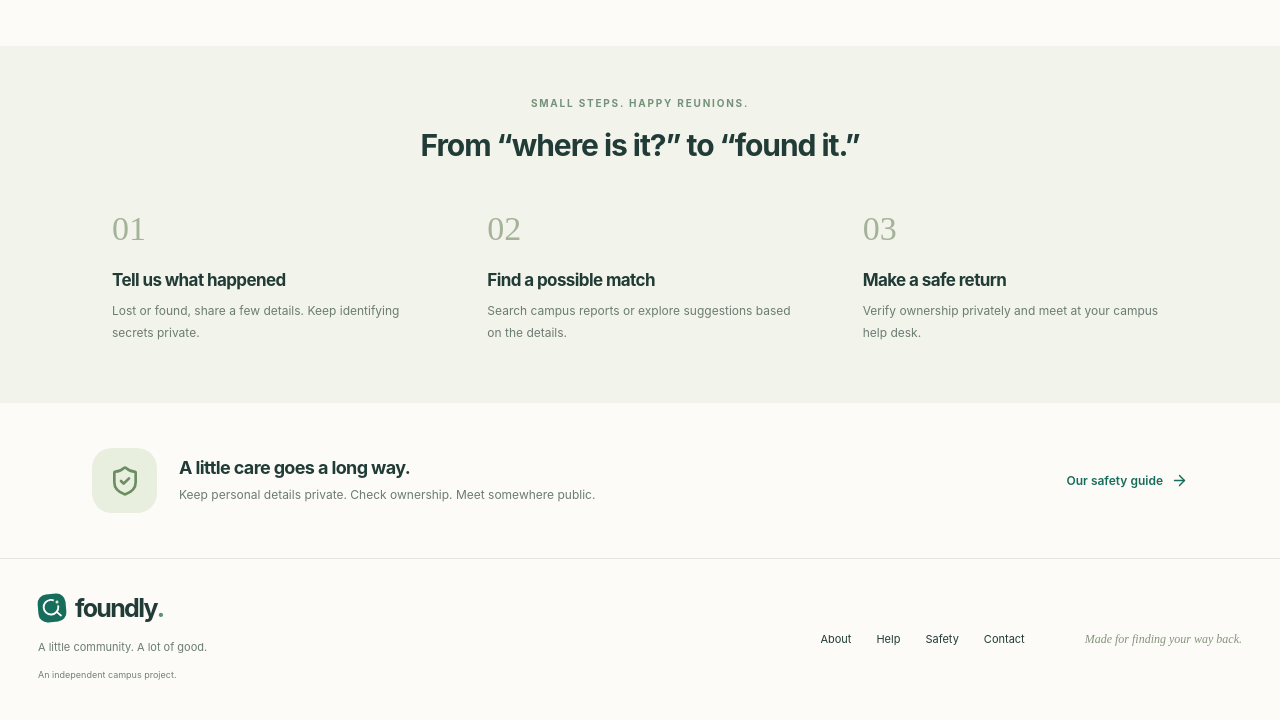
Test case: Foundly user interactions › supports navigation to the safety guide
(page scrolled)
Click the link "Our safety guide".
click(1127, 481)  # box x1=1066 y1=472 x2=1188 y2=490
(page scrolled)
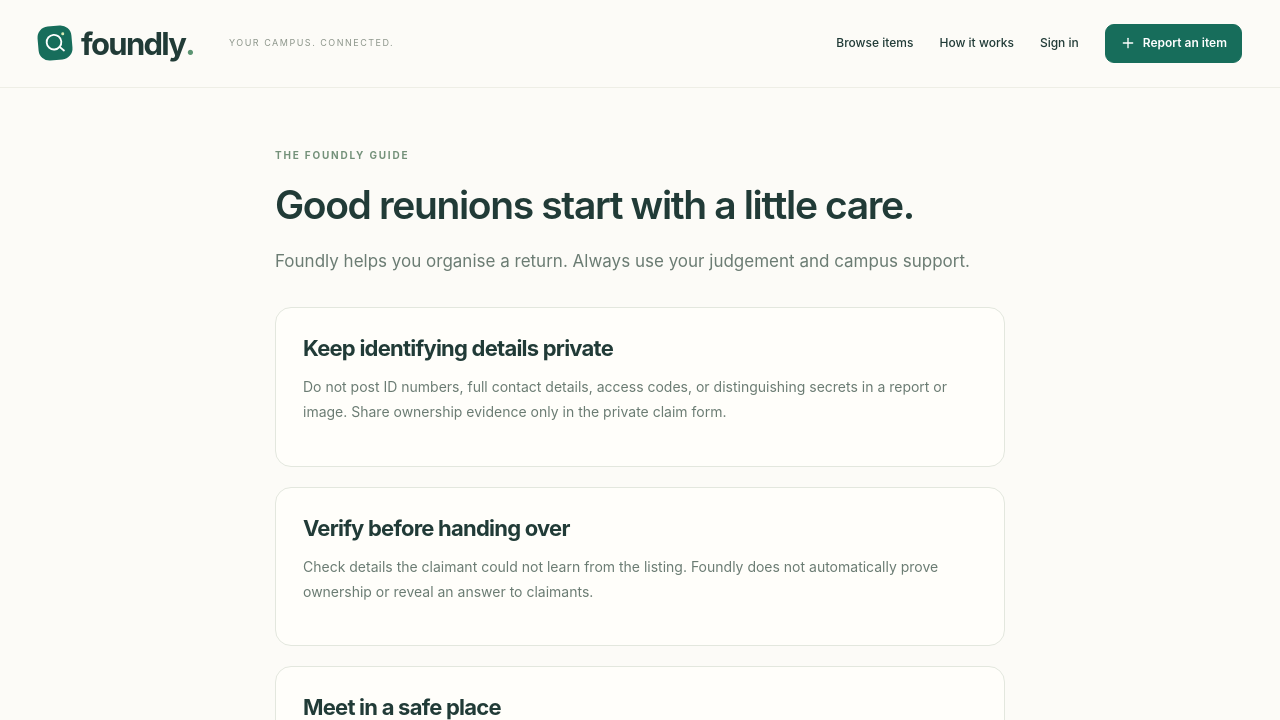
Expected: the heading "Good reunions start with a little care." is shown, x1=275 y1=183 x2=1005 y2=228
